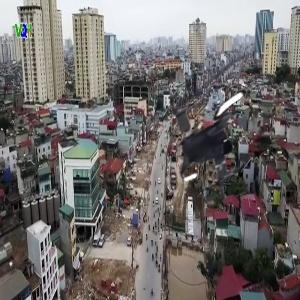drone: (153, 70, 289, 206)
